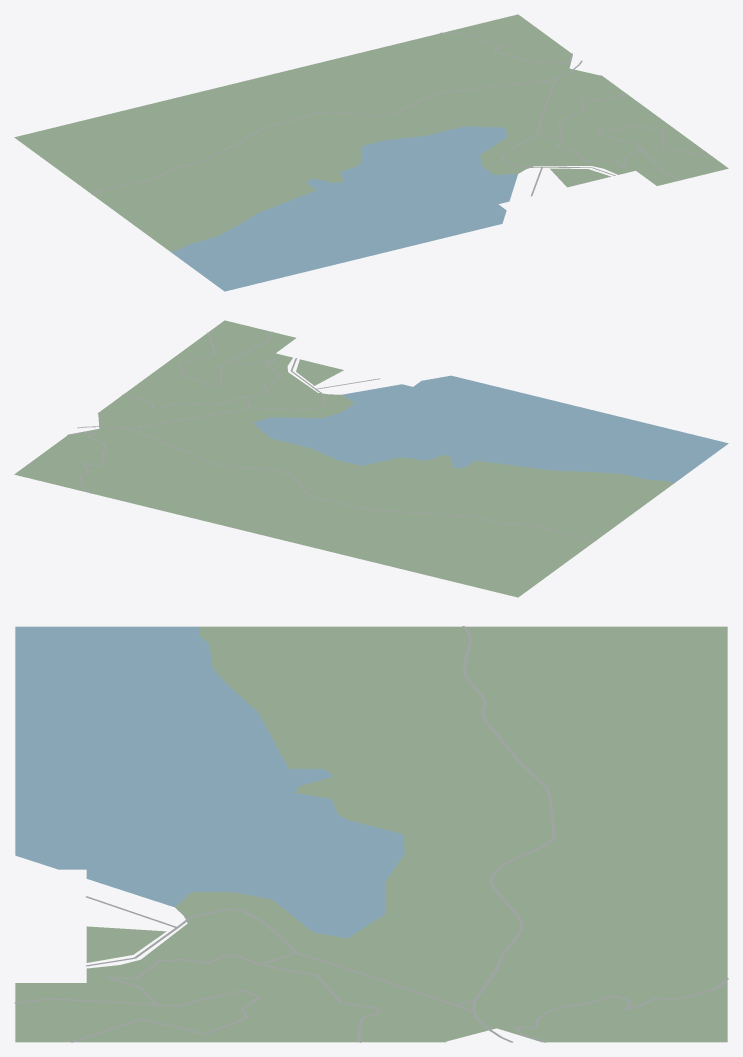
The model's file is 0_4-known-fine.glb.
3 views of the same model, one above another, from view 1: azimuth 30°, elevation 25°; view 2: azimuth 150°, elevation 25°; view 3: azimuth 270°, elevation 25° (orthographic). The views are drawn at different scales.
Bounding box in the file's own units: 1003 × 0.1 × 727.
